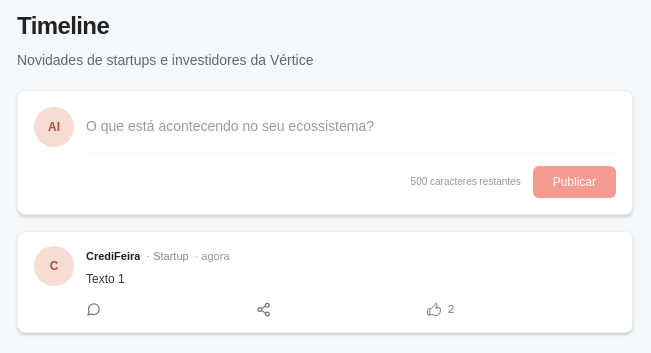
interações › curtir usa o ícone de joinha (não o coração do X) e atualiza o contador
The width and height of the screenshot is (651, 353).
Click the button named "Curtir (2 curtidas)" at (440, 310), box [418,295,462,324]
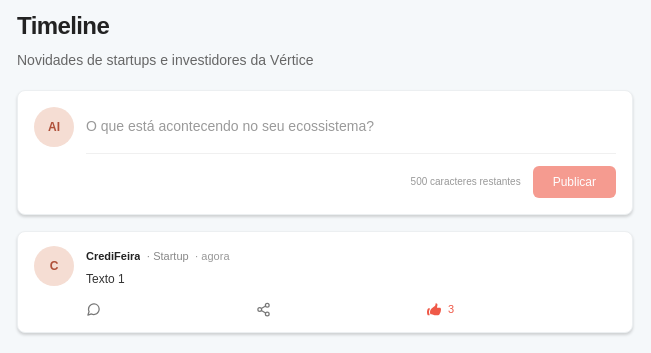
Check: the button named "Remover curtida (3 curtidas)" is pressed, box [418,295,462,324]
